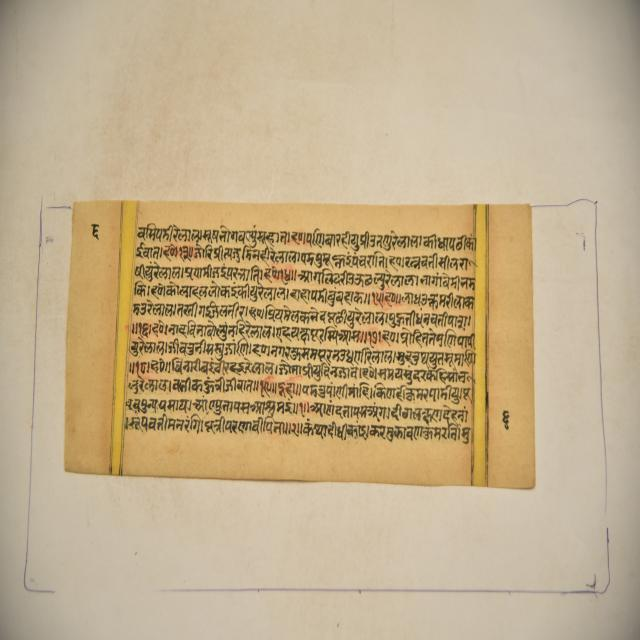text_paragraph: (65, 199, 532, 487)
